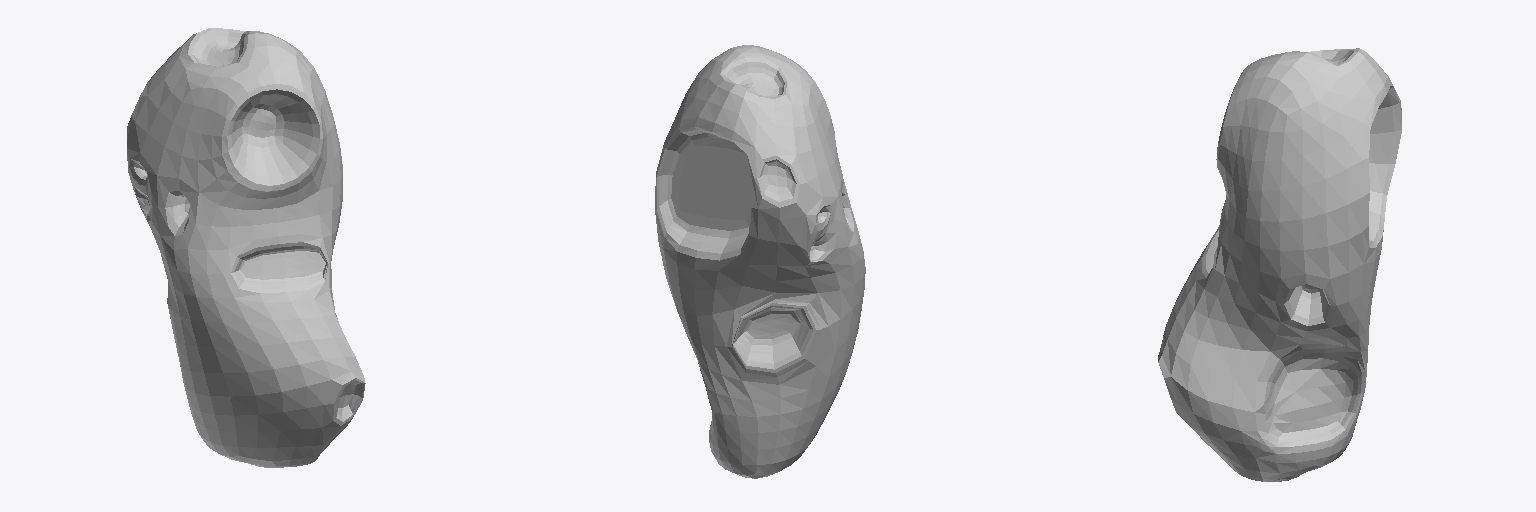
The model's file is AsteroidSphere_002.obj.
3 renders of one model, left to right at view 1: azimuth 30°, elevation 25°; view 2: azimuth 150°, elevation 25°; view 3: azimuth 270°, elevation 25°, orthographic.
Parts seen in each view (by area): view 1: Sphere.002; view 2: Sphere.002; view 3: Sphere.002.
Boxes of the visible parts, box(x1,y1,x2,y2) form: Sphere.002: box(127, 28, 365, 467); Sphere.002: box(655, 45, 865, 478); Sphere.002: box(1158, 48, 1401, 481).
Bounding box in the file's own units: 1.93 × 4.38 × 2.32.